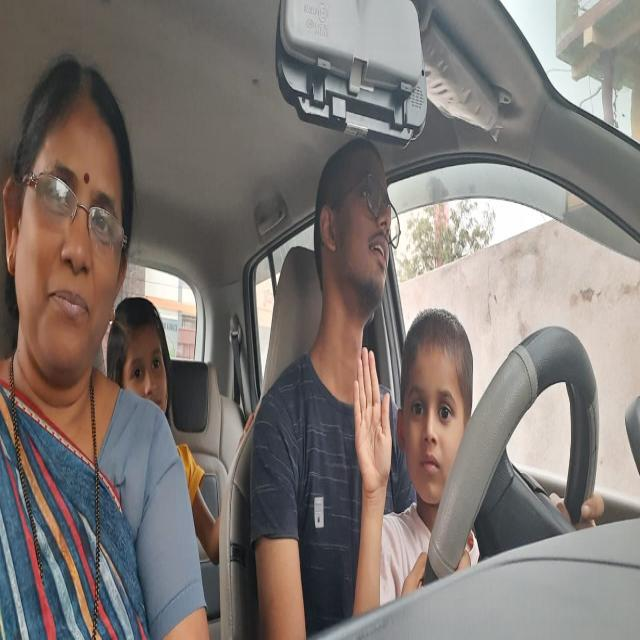child: (393, 297, 480, 530)
person: (0, 50, 137, 402), (314, 128, 401, 355), (110, 278, 174, 441)
